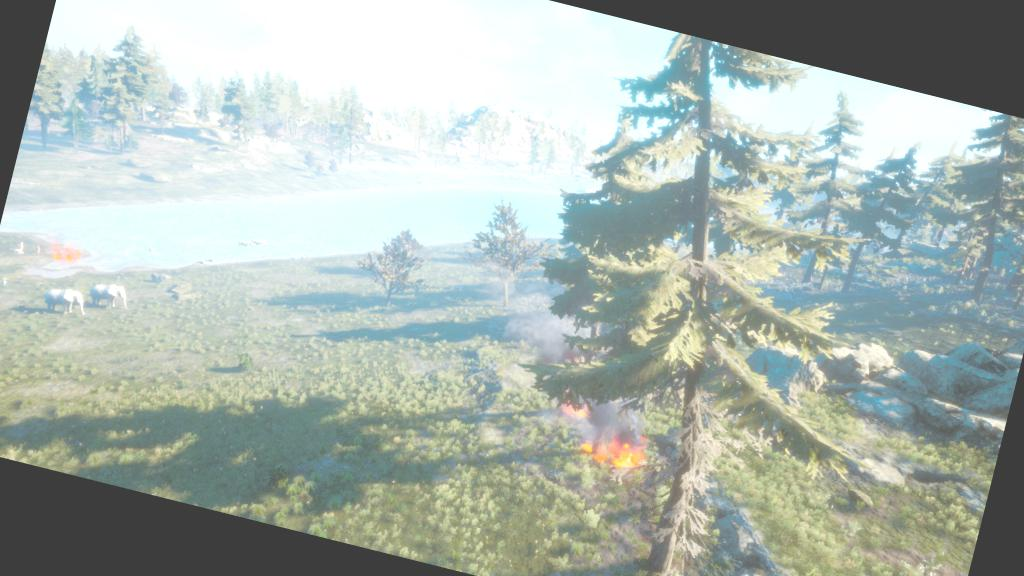Fire: (582, 433, 650, 475), (52, 246, 78, 264)
elephant: (38, 280, 92, 328), (87, 276, 137, 319)
smoke: (575, 396, 643, 442), (524, 310, 581, 362)
